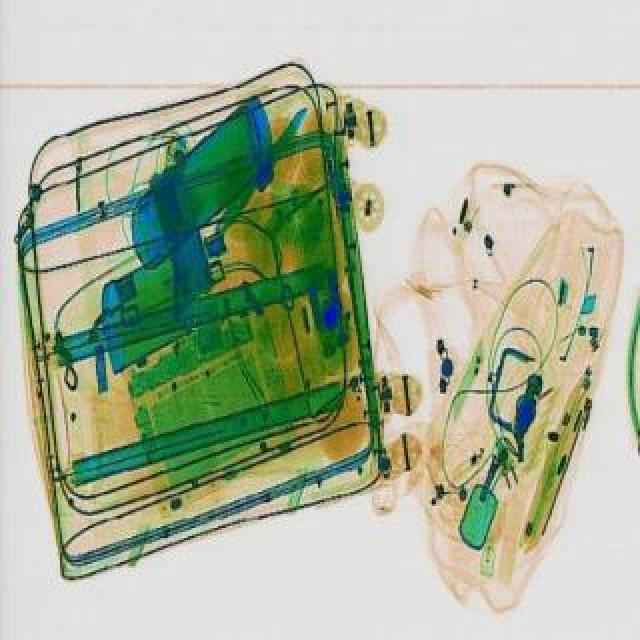knife: (210, 102, 312, 236)
